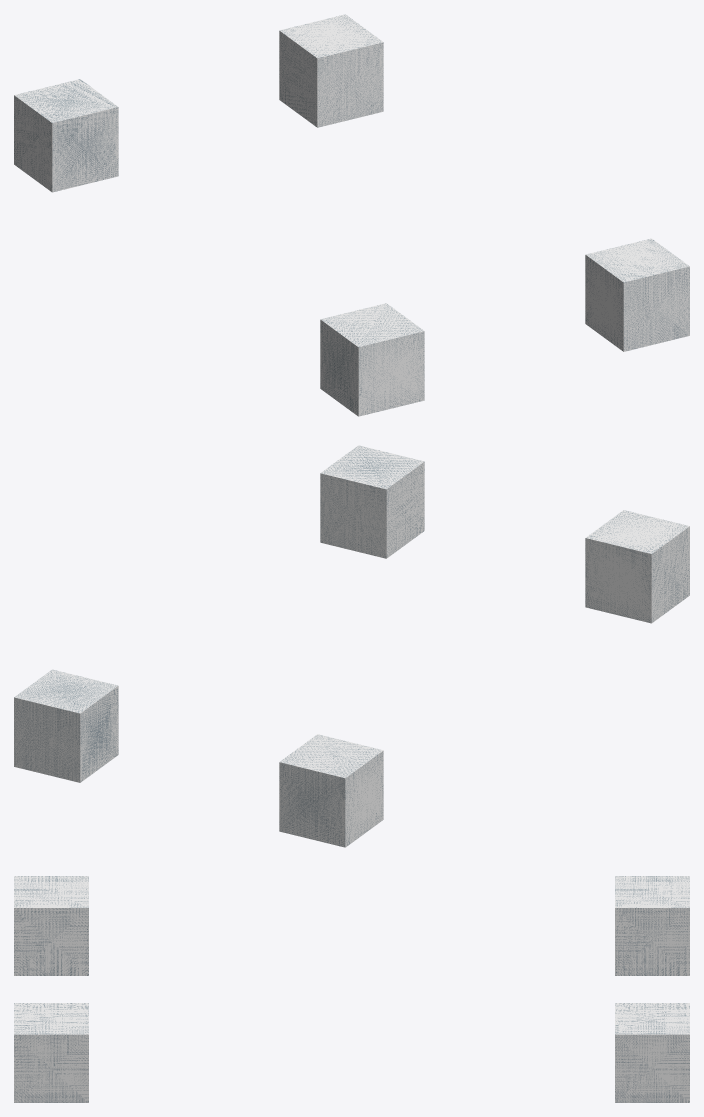
File: nested-3-deep.dae
3 views of the same model, one above another, from view 1: azimuth 30°, elevation 25°; view 2: azimuth 150°, elevation 25°; view 3: azimuth 270°, elevation 25° (orthographic).
Parts seen in each view (by area): view 1: Component_A (×4); view 2: Component_A (×4); view 3: Component_A (×4).
Boxes of the visible parts, left/top/right/bottom form: Component_A (×4): left=14, top=14, right=689, bottom=416; Component_A (×4): left=14, top=445, right=689, bottom=847; Component_A (×4): left=14, top=876, right=689, bottom=1102.
Size of the model in its own units: 49.21 by 88.58 by 9.84.
